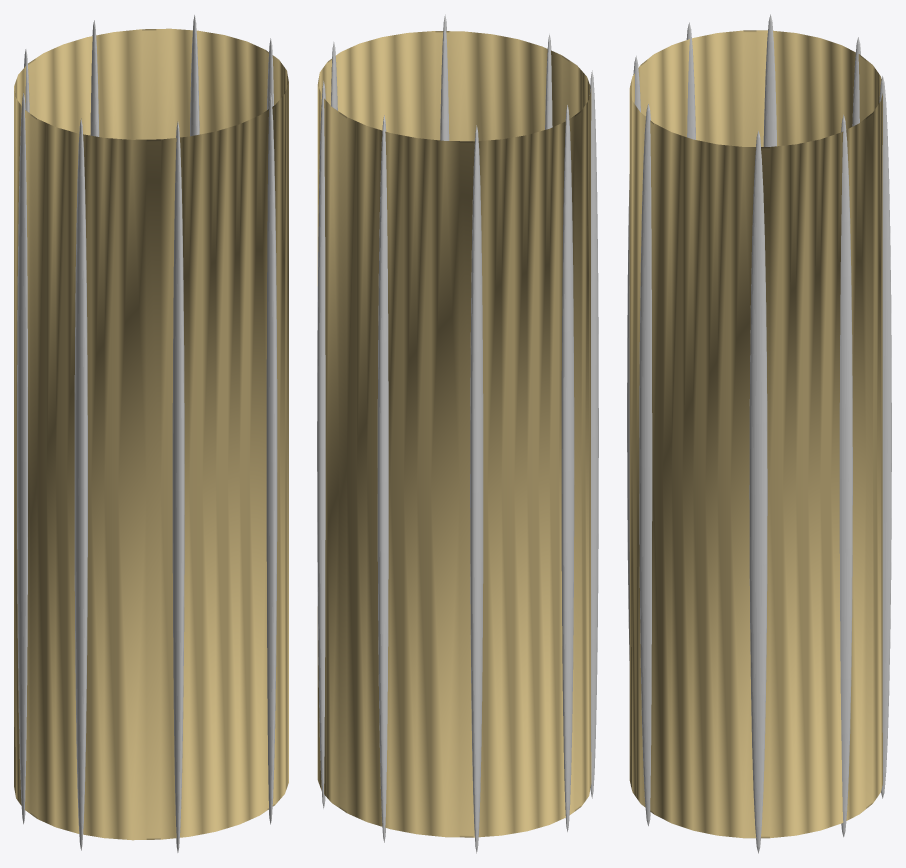
Rendered from powercell middle.fbx.
The picture shows the model from 3 angles, left to right: view 1: azimuth 30°, elevation 25°; view 2: azimuth 150°, elevation 25°; view 3: azimuth 270°, elevation 25°; orthographic projection.
Visible parts, largest first — view 1: Middele powercell, Sphere.007, Sphere, Sphere.003, Sphere.004, Sphere.005, Sphere.002; view 2: Middele powercell, Sphere.006, Sphere.003, Sphere.002, Sphere.005, Sphere.007, Sphere.004, Sphere; view 3: Middele powercell, Sphere.001, Sphere.004, Sphere.005, Sphere.002, Sphere, Sphere.003, Sphere.007, Sphere.006.
Boxes of the visible parts, x1,y1,x2,y2 form: Middele powercell: (14, 28, 288, 840); Sphere.007: (74, 118, 87, 850); Sphere: (172, 121, 184, 852); Sphere.003: (17, 93, 27, 824); Sphere.004: (266, 93, 277, 824); Sphere.005: (190, 14, 199, 136); Sphere.002: (90, 20, 99, 136); Middele powercell: (317, 31, 591, 837); Sphere.006: (470, 125, 483, 853); Sphere.003: (561, 105, 574, 831); Sphere.002: (377, 115, 388, 842); Sphere.005: (317, 81, 325, 808); Sphere.007: (589, 70, 598, 798); Sphere.004: (440, 14, 449, 140); Sphere: (545, 34, 552, 129); Middele powercell: (629, 30, 882, 838); Sphere.001: (749, 130, 767, 853); Sphere.004: (639, 104, 652, 826); Sphere.005: (839, 115, 852, 837); Sphere.002: (879, 76, 891, 798); Sphere: (627, 56, 640, 660); Sphere.003: (763, 14, 776, 146); Sphere.007: (686, 22, 695, 139); Sphere.006: (852, 37, 860, 126).
Size of the model in its own units: 27.99 by 78.19 by 25.93.
1 material, 1 textured.
